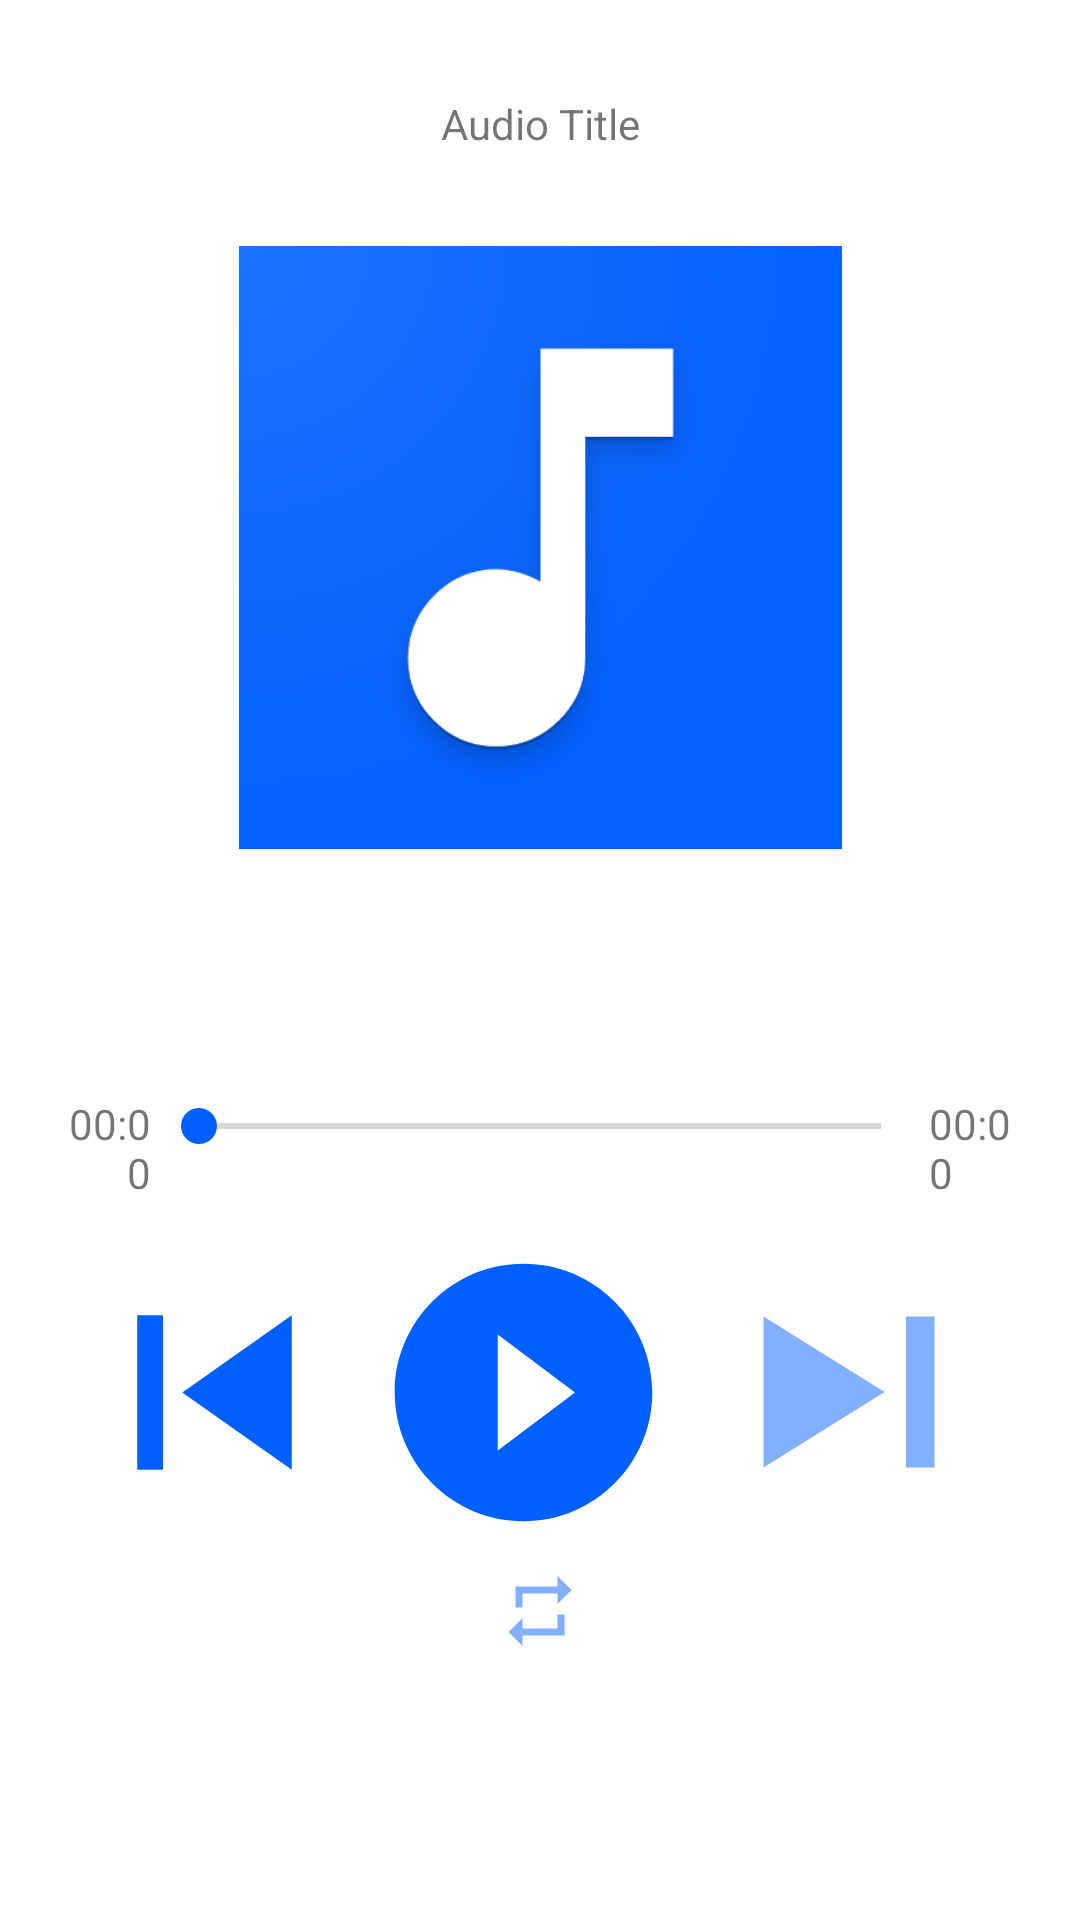

Icons on this 1080px x 1920px Android screen, each with the point to tap as (x,y):
next: (849,1392)
play: (523,1392)
previous: (214,1392)
repeat: (540,1611)
